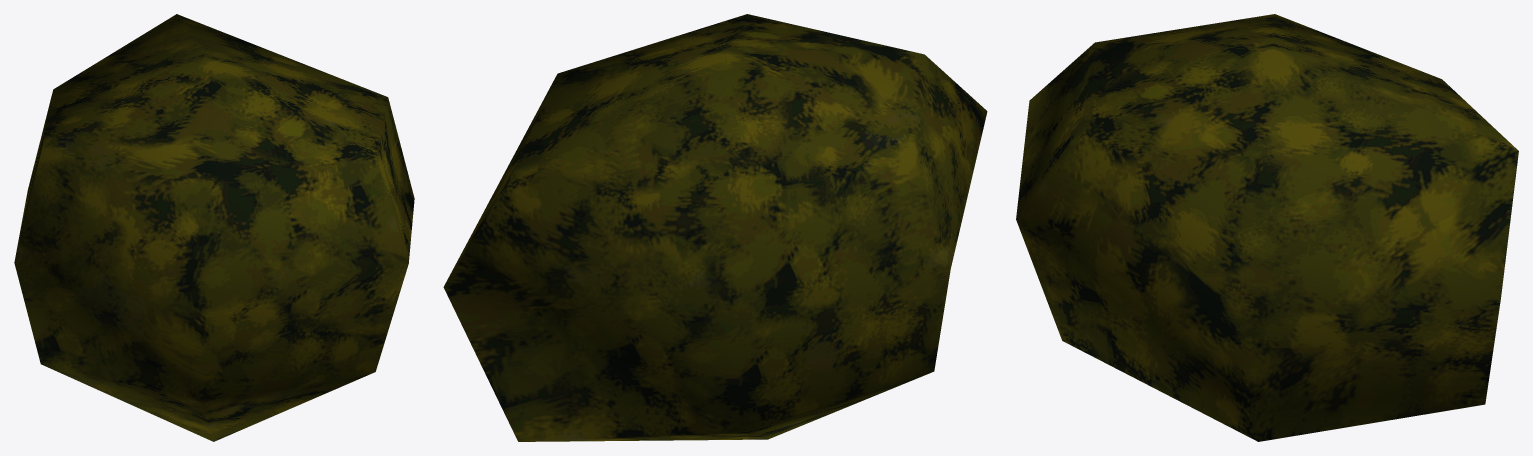
File: trap_leaf.fbx
3 renders of one model, left to right at view 1: azimuth 30°, elevation 25°; view 2: azimuth 150°, elevation 25°; view 3: azimuth 270°, elevation 25°, orthographic. The views are drawn at different scales.
Parts seen in each view (by area): view 1: trap_leaf; view 2: trap_leaf; view 3: trap_leaf.
Boxes of the visible parts, x1,y1,x2,y2 form: trap_leaf: (14, 14, 414, 441); trap_leaf: (443, 14, 987, 441); trap_leaf: (1016, 14, 1518, 441).
Size of the model in its own units: 91.64 by 81.21 by 99.29.
